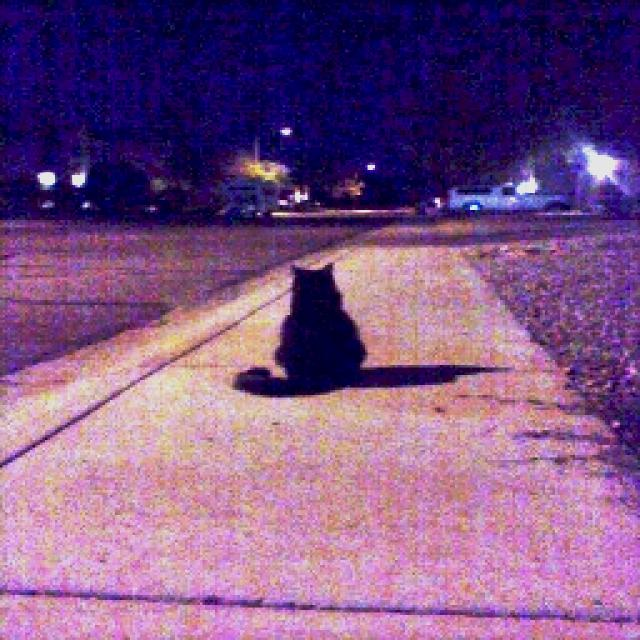cat: (238, 251, 392, 409)
